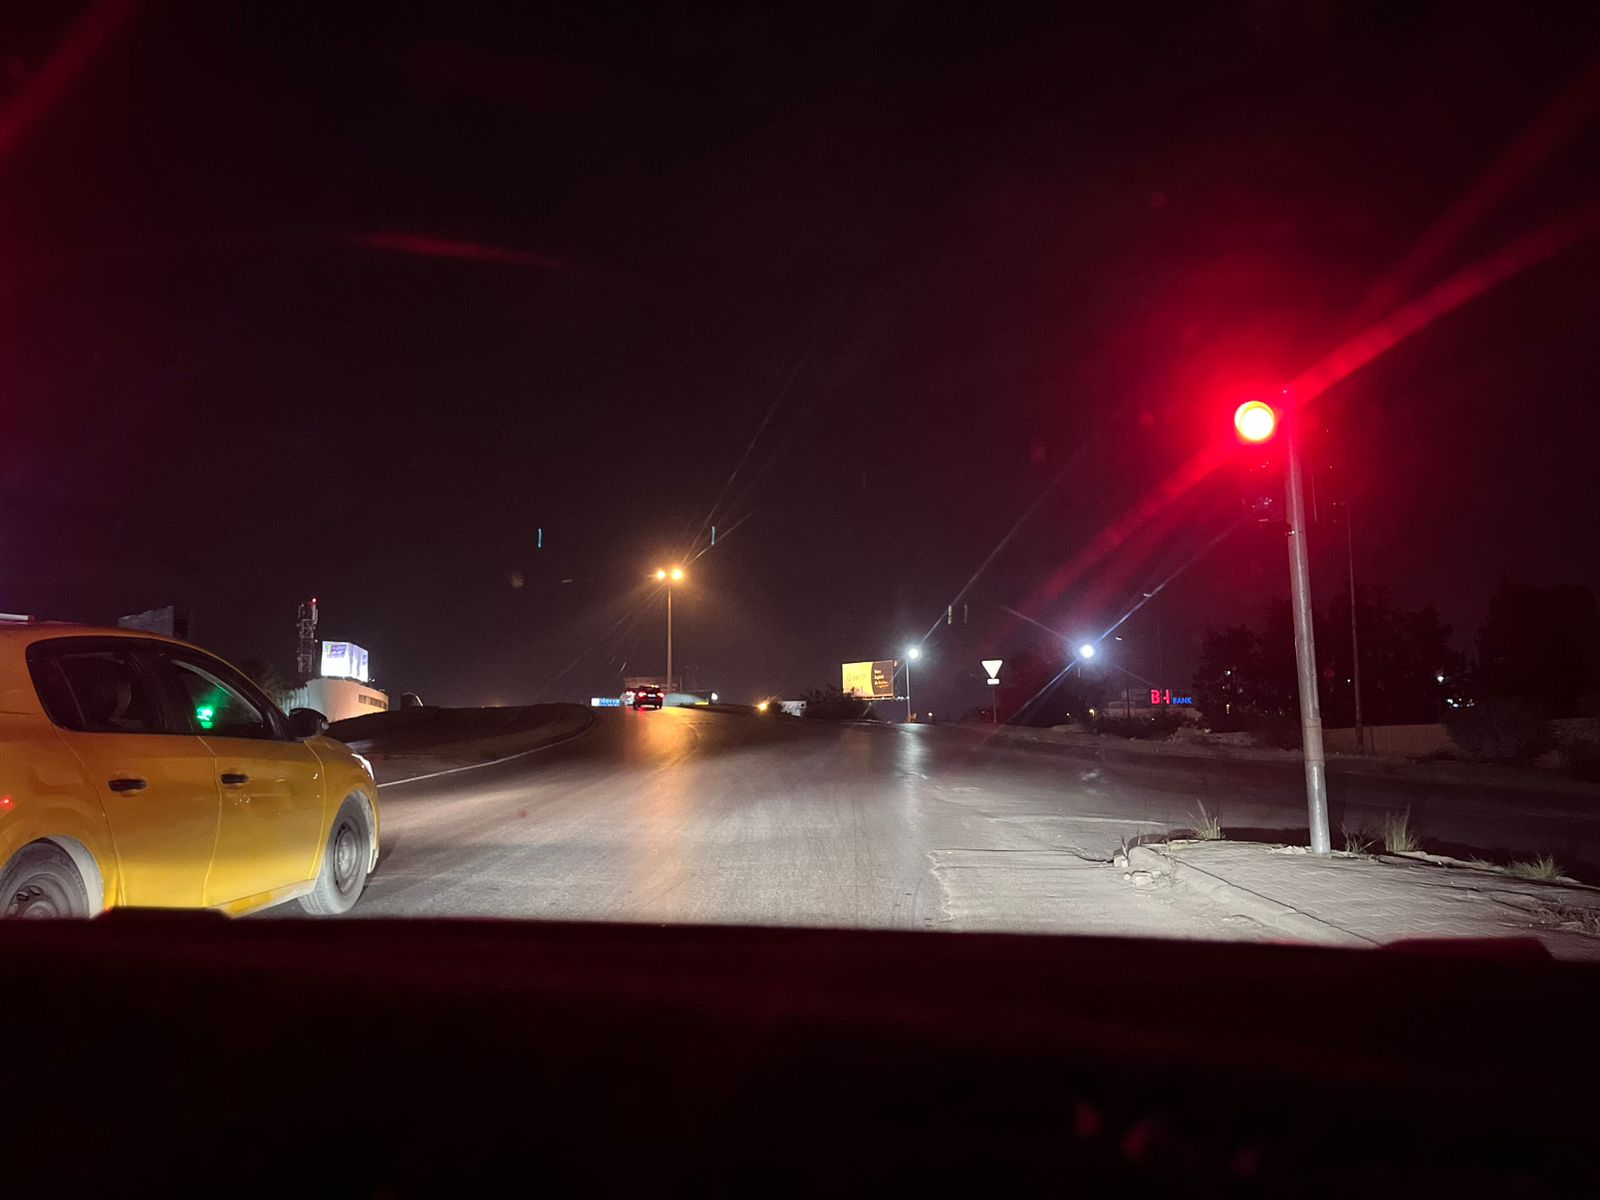RedLight: (1221, 392, 1296, 545)
